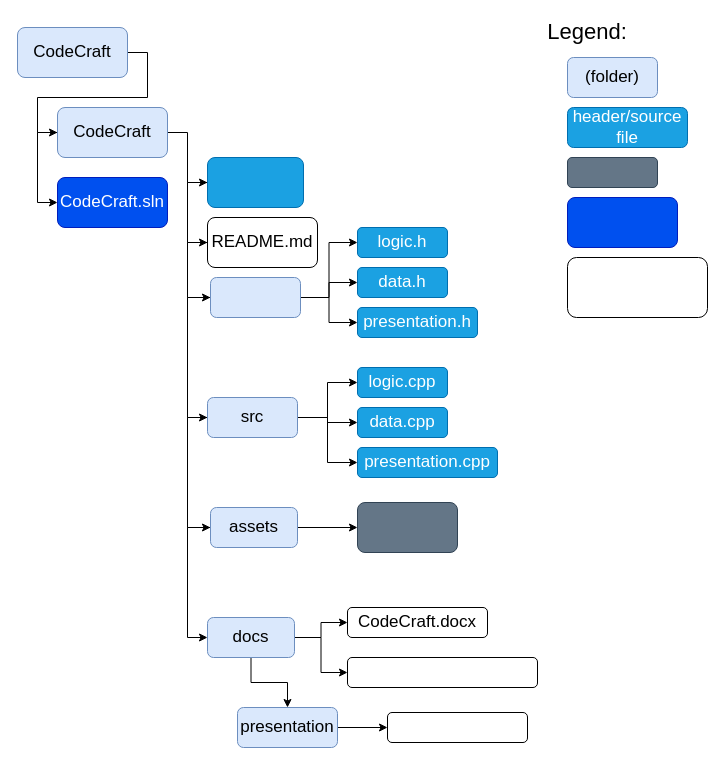
Image size: 725x765. Some labels were removed from this diagram. The centre of each missing label's shape, as x and y in pixels:
All files for Dear ImGui: the point at 407,527
CodeCraft.pptx: the point at 457,727
documentation, presentation and read me files: the point at 637,287
include: the point at 255,297
main.cpp: the point at 255,182
project_structure.drawio: the point at 442,672
solution file: the point at 622,222
UI files: the point at 612,172
